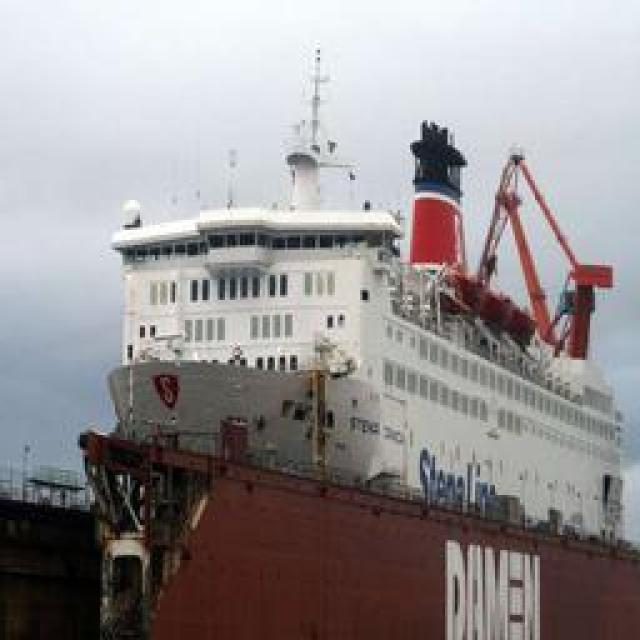CIV_Ship: (85, 95, 625, 613)
